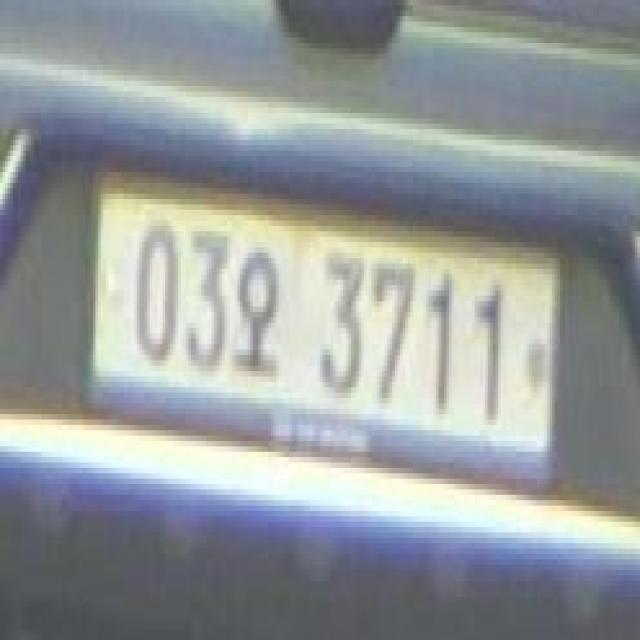illegal_plate: (91, 167, 561, 492)
